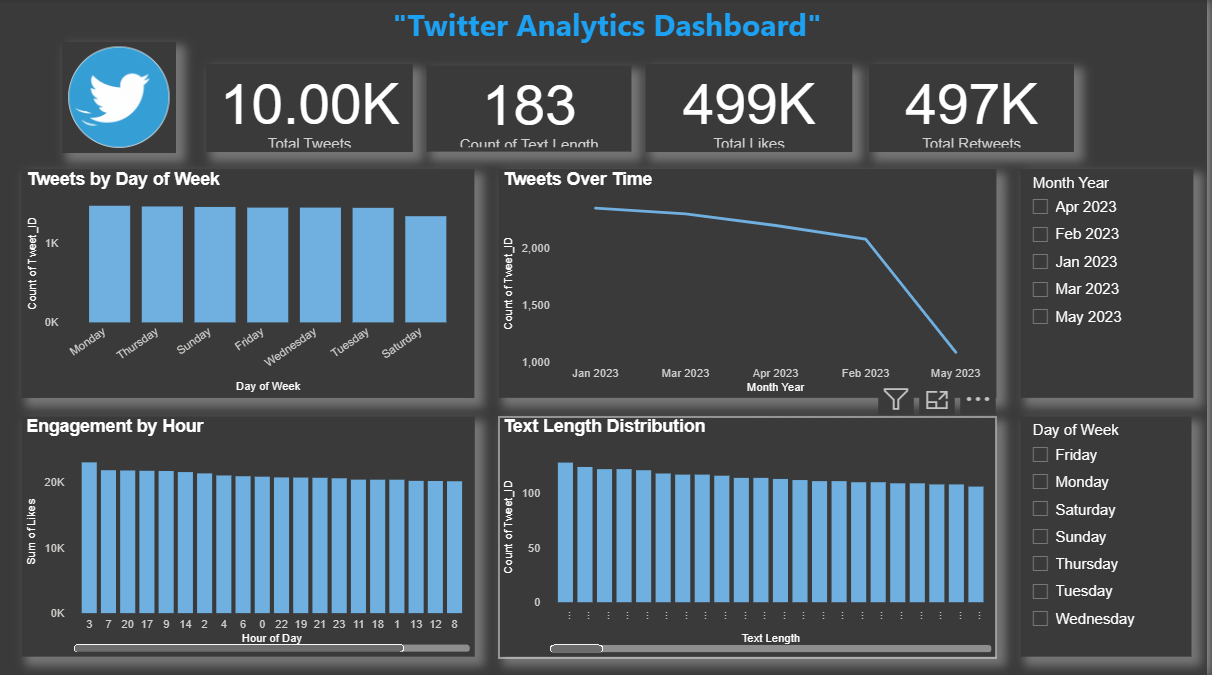

Layout of this report page (visuals, bound fields, positions):
{"tool":"powerbi","page":{"name":"Page 1","canvas":[1280,720],"ordinal":0},"visuals":[{"type":"textbox","box":[10,0,1270.7,53.8],"z":0},{"type":"card","fields":{"Values":["CountNonNull(twitter_dataset.Tweet_ID)"]},"box":[219.1,69.7,219.1,93.6],"z":1000},{"type":"card","fields":{"Values":["Count(twitter_dataset.Text Length)"]},"box":[454.1,71.7,217.1,91.6],"z":2000},{"type":"card","fields":{"Values":["Sum(twitter_dataset.Likes)"]},"box":[685.2,69.7,219.1,93.6],"z":3000},{"type":"card","fields":{"Values":["Sum(twitter_dataset.Retweets)"]},"box":[922.2,69.7,217.1,93.6],"z":4000},{"type":"clusteredColumnChart","title":"Tweets by Day of Week","fields":{"Category":["twitter_dataset.Day of Week"],"Y":["CountNonNull(twitter_dataset.Tweet_ID)"]},"box":[23.9,181.2,480,243],"z":5000},{"type":"lineChart","title":"Tweets Over Time","fields":{"Category":["twitter_dataset.Month Year"],"Y":["CountNonNull(twitter_dataset.Tweet_ID)"]},"box":[529.8,181.2,527.8,243],"z":6000},{"type":"clusteredColumnChart","title":"Engagement by Hour","fields":{"Category":["twitter_dataset.Hour of Day"],"Y":["Sum(twitter_dataset.Likes)"]},"box":[10,444.2,493.9,254.9],"z":7000},{"type":"clusteredColumnChart","title":"Text Length Distribution","fields":{"Category":["twitter_dataset.Text Length"],"Y":["CountNonNull(twitter_dataset.Tweet_ID)"]},"box":[529.8,444.2,527.8,254.9],"z":8000},{"type":"slicer","fields":{"Values":["twitter_dataset.Month Year"]},"box":[1083.5,181.2,183.2,243],"z":9000},{"type":"slicer","fields":{"Values":["twitter_dataset.Day of Week"]},"box":[1083.5,444.2,181.2,254.9],"z":10000},{"type":"image","box":[23.9,54.1,202,109.8],"z":10001}]}

Visuals, with their boxes in screenshot pixels (x1, y1, x2, y2), scaled from the page's 1280x720 canvas onto the 1212x675 screenshot:
textbox: locate(9, 0, 1211, 50)
card - CountNonNull(twitter_dataset.Tweet_ID): locate(207, 65, 415, 153)
card - Count(twitter_dataset.Text Length): locate(430, 67, 636, 153)
card - Sum(twitter_dataset.Likes): locate(649, 65, 856, 153)
card - Sum(twitter_dataset.Retweets): locate(873, 65, 1079, 153)
"Tweets by Day of Week" clusteredColumnChart: locate(23, 170, 477, 398)
"Tweets Over Time" lineChart: locate(502, 170, 1001, 398)
"Engagement by Hour" clusteredColumnChart: locate(9, 416, 477, 655)
"Text Length Distribution" clusteredColumnChart: locate(502, 416, 1001, 655)
slicer - twitter_dataset.Month Year: locate(1026, 170, 1199, 398)
slicer - twitter_dataset.Day of Week: locate(1026, 416, 1198, 655)
image: locate(23, 51, 214, 154)
